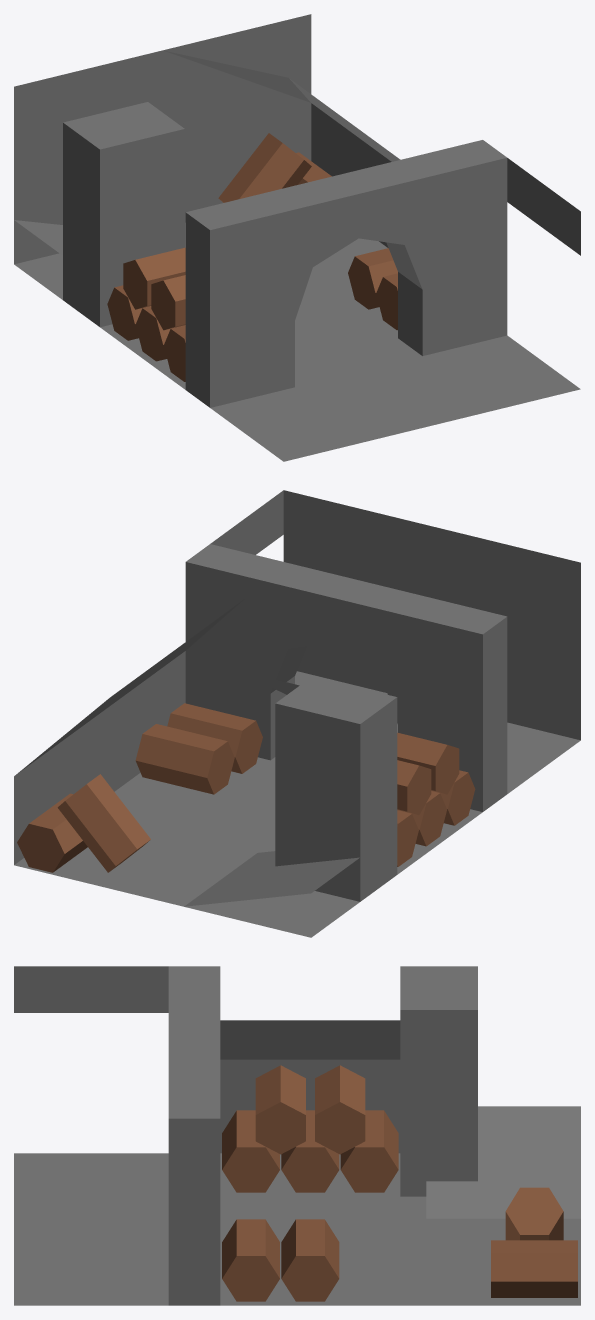
Rendered from storage_room_collider.gltf.
The picture shows the model from 3 angles, top to bottom: view 1: azimuth 30°, elevation 25°; view 2: azimuth 150°, elevation 25°; view 3: azimuth 270°, elevation 25°; orthographic projection. The views are drawn at different scales.
Parts seen in each view (by area): view 1: Cube, Cylinder.008, Cylinder.004, Cylinder.006, Cylinder.003, Cylinder.001, Cylinder.002, Cylinder, Cylinder.005; view 2: Cube, Cylinder.006, Cylinder.008, Cylinder.005, Cylinder.007, Cylinder.003, Cylinder.004, Cylinder, Cylinder.001, Cylinder.002; view 3: Cube, Cylinder.007, Cylinder.006, Cylinder.005, Cylinder.003, Cylinder.004, Cylinder.002, Cylinder, Cylinder.008, Cylinder.001.
Part boxes in pixels (x1,y1,x2,y2): Cube: (14, 14, 580, 461); Cylinder.008: (218, 133, 311, 202); Cylinder.004: (123, 247, 185, 309); Cylinder.006: (348, 248, 397, 309); Cylinder.003: (151, 275, 185, 330); Cylinder.001: (135, 306, 174, 361); Cylinder.002: (107, 285, 150, 340); Cylinder: (164, 325, 185, 381); Cylinder.005: (376, 273, 397, 330); Cube: (14, 490, 580, 937); Cylinder.006: (135, 724, 234, 794); Cylinder.008: (57, 774, 150, 872); Cylinder.005: (167, 703, 262, 773); Cylinder.007: (17, 793, 87, 872); Cylinder.003: (397, 732, 459, 794); Cylinder.004: (397, 760, 431, 815); Cylinder: (440, 770, 475, 825); Cylinder.001: (412, 791, 446, 846); Cylinder.002: (397, 810, 418, 866); Cube: (14, 966, 580, 1305); Cylinder.007: (491, 1240, 577, 1297); Cylinder.006: (281, 1219, 339, 1301); Cylinder.005: (222, 1219, 279, 1301); Cylinder.003: (255, 1065, 305, 1154); Cylinder.004: (315, 1065, 365, 1154); Cylinder.002: (340, 1110, 398, 1192); Cylinder: (222, 1110, 279, 1192); Cylinder.008: (505, 1187, 563, 1240); Cylinder.001: (281, 1110, 339, 1192).
Size of the model in its own units: 7 by 4 by 11.
